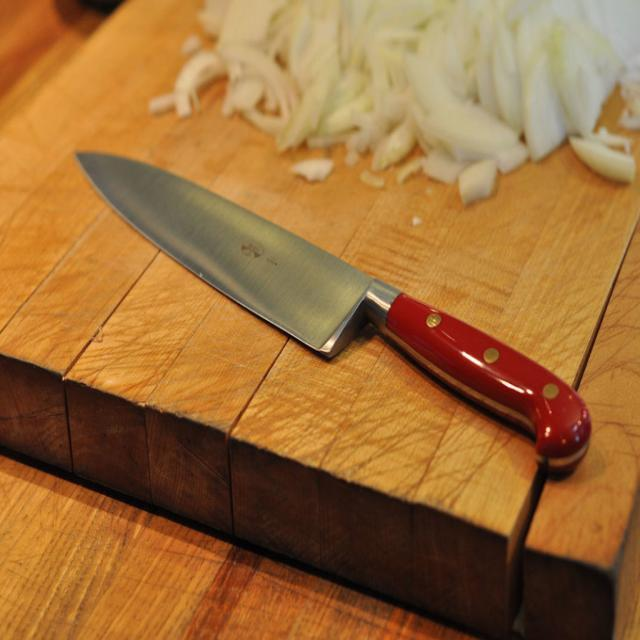Knife: (76, 152, 590, 472)
